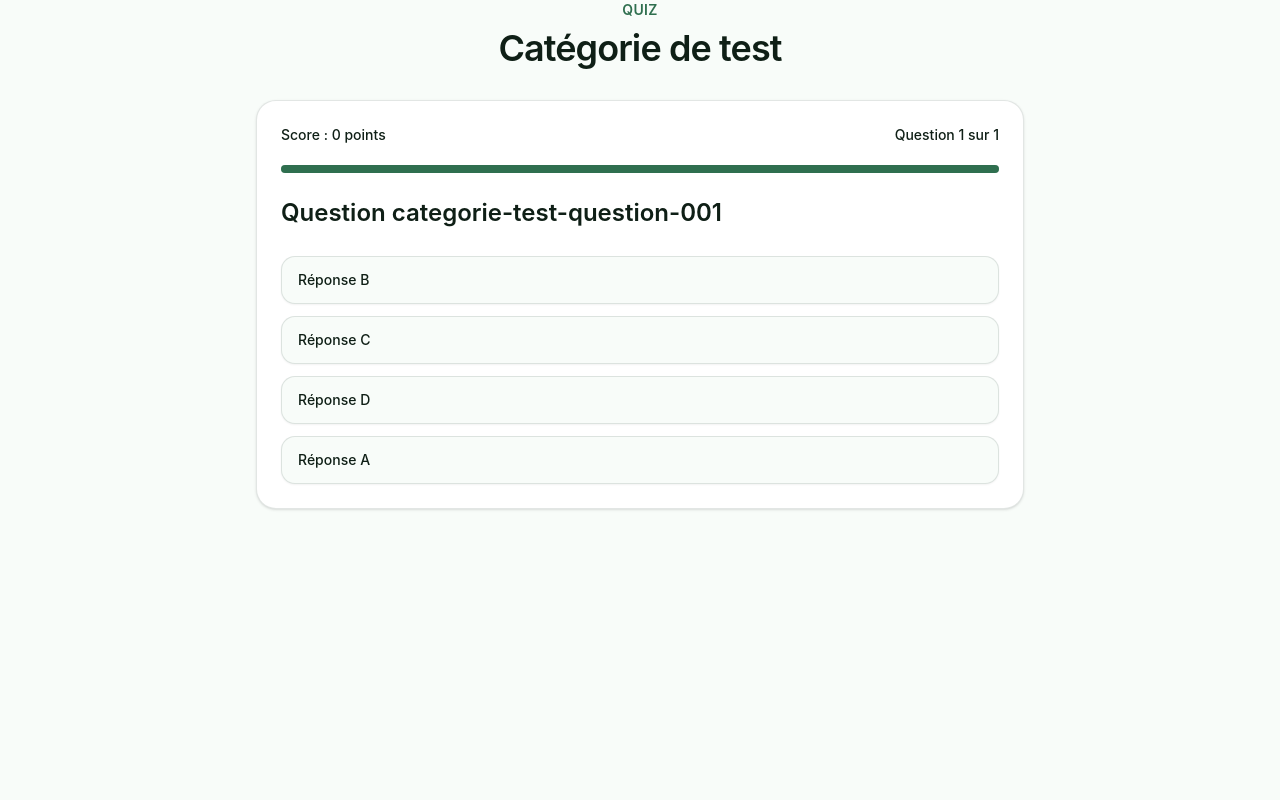
QuizRunner › affiche le résultat final et sauvegarde le score une seule fois
This screenshot has width=1280, height=800.
Expected: the heading "Catégorie de test" is shown, [498, 26, 782, 70]
Click the button "Réponse B" at point(334, 280), box [281, 256, 999, 304]
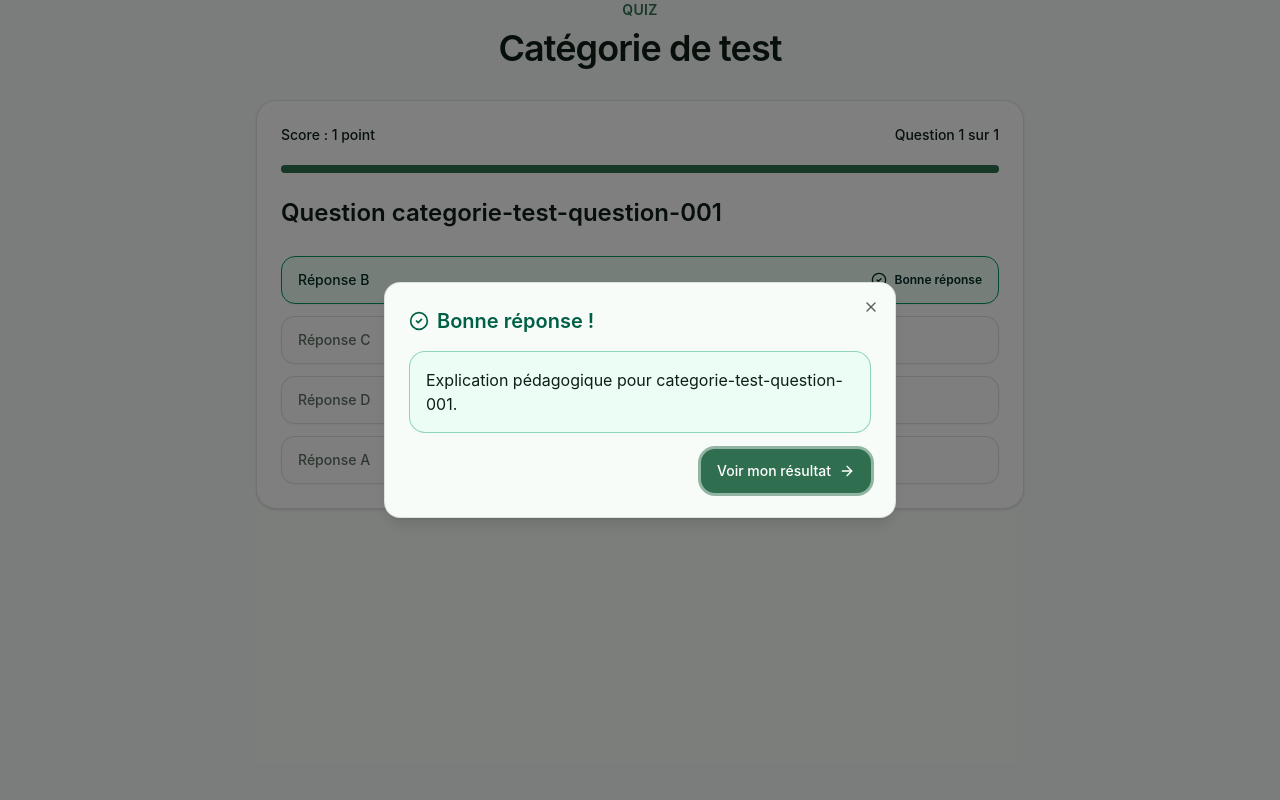
Expected: the button "Voir mon résultat" is shown
Click the button "Voir mon résultat" at point(786, 471), box [701, 449, 871, 493]
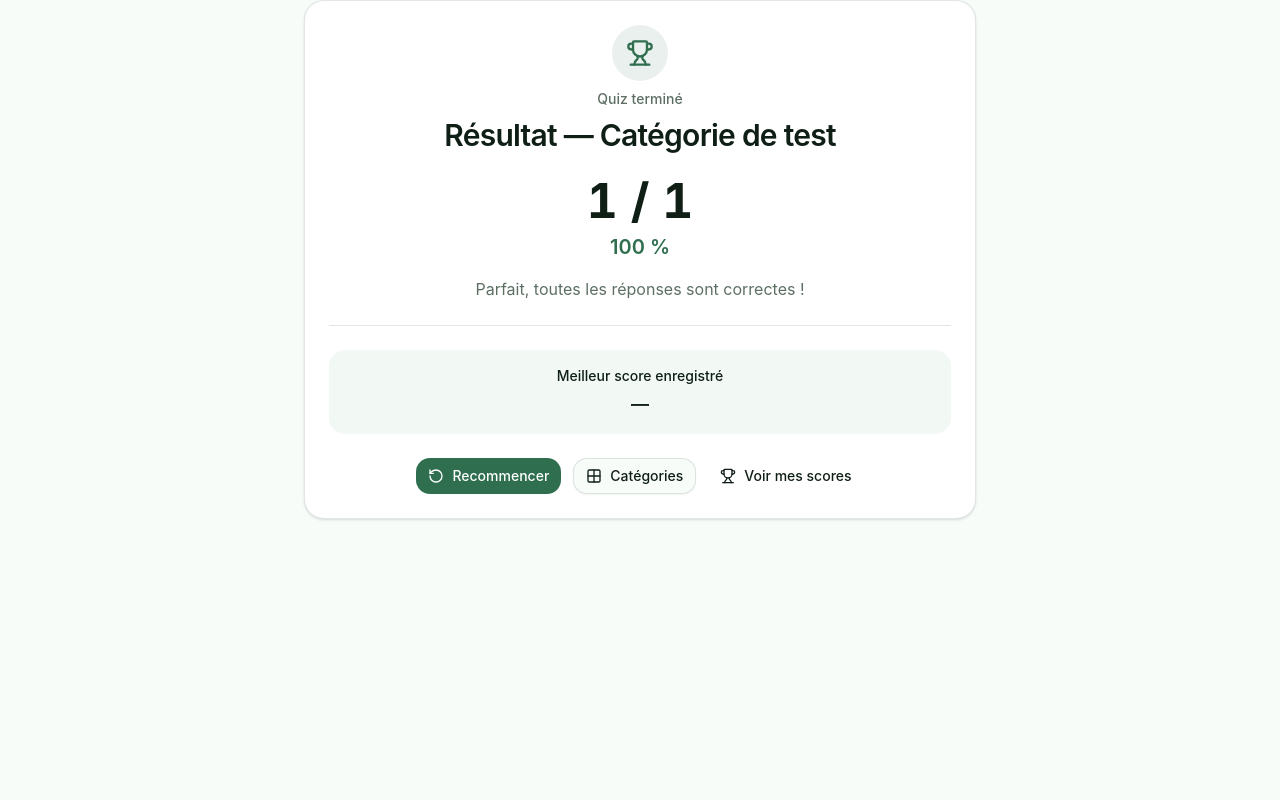
Expected: the text "1 / 1" is shown, [587, 171, 693, 230]
